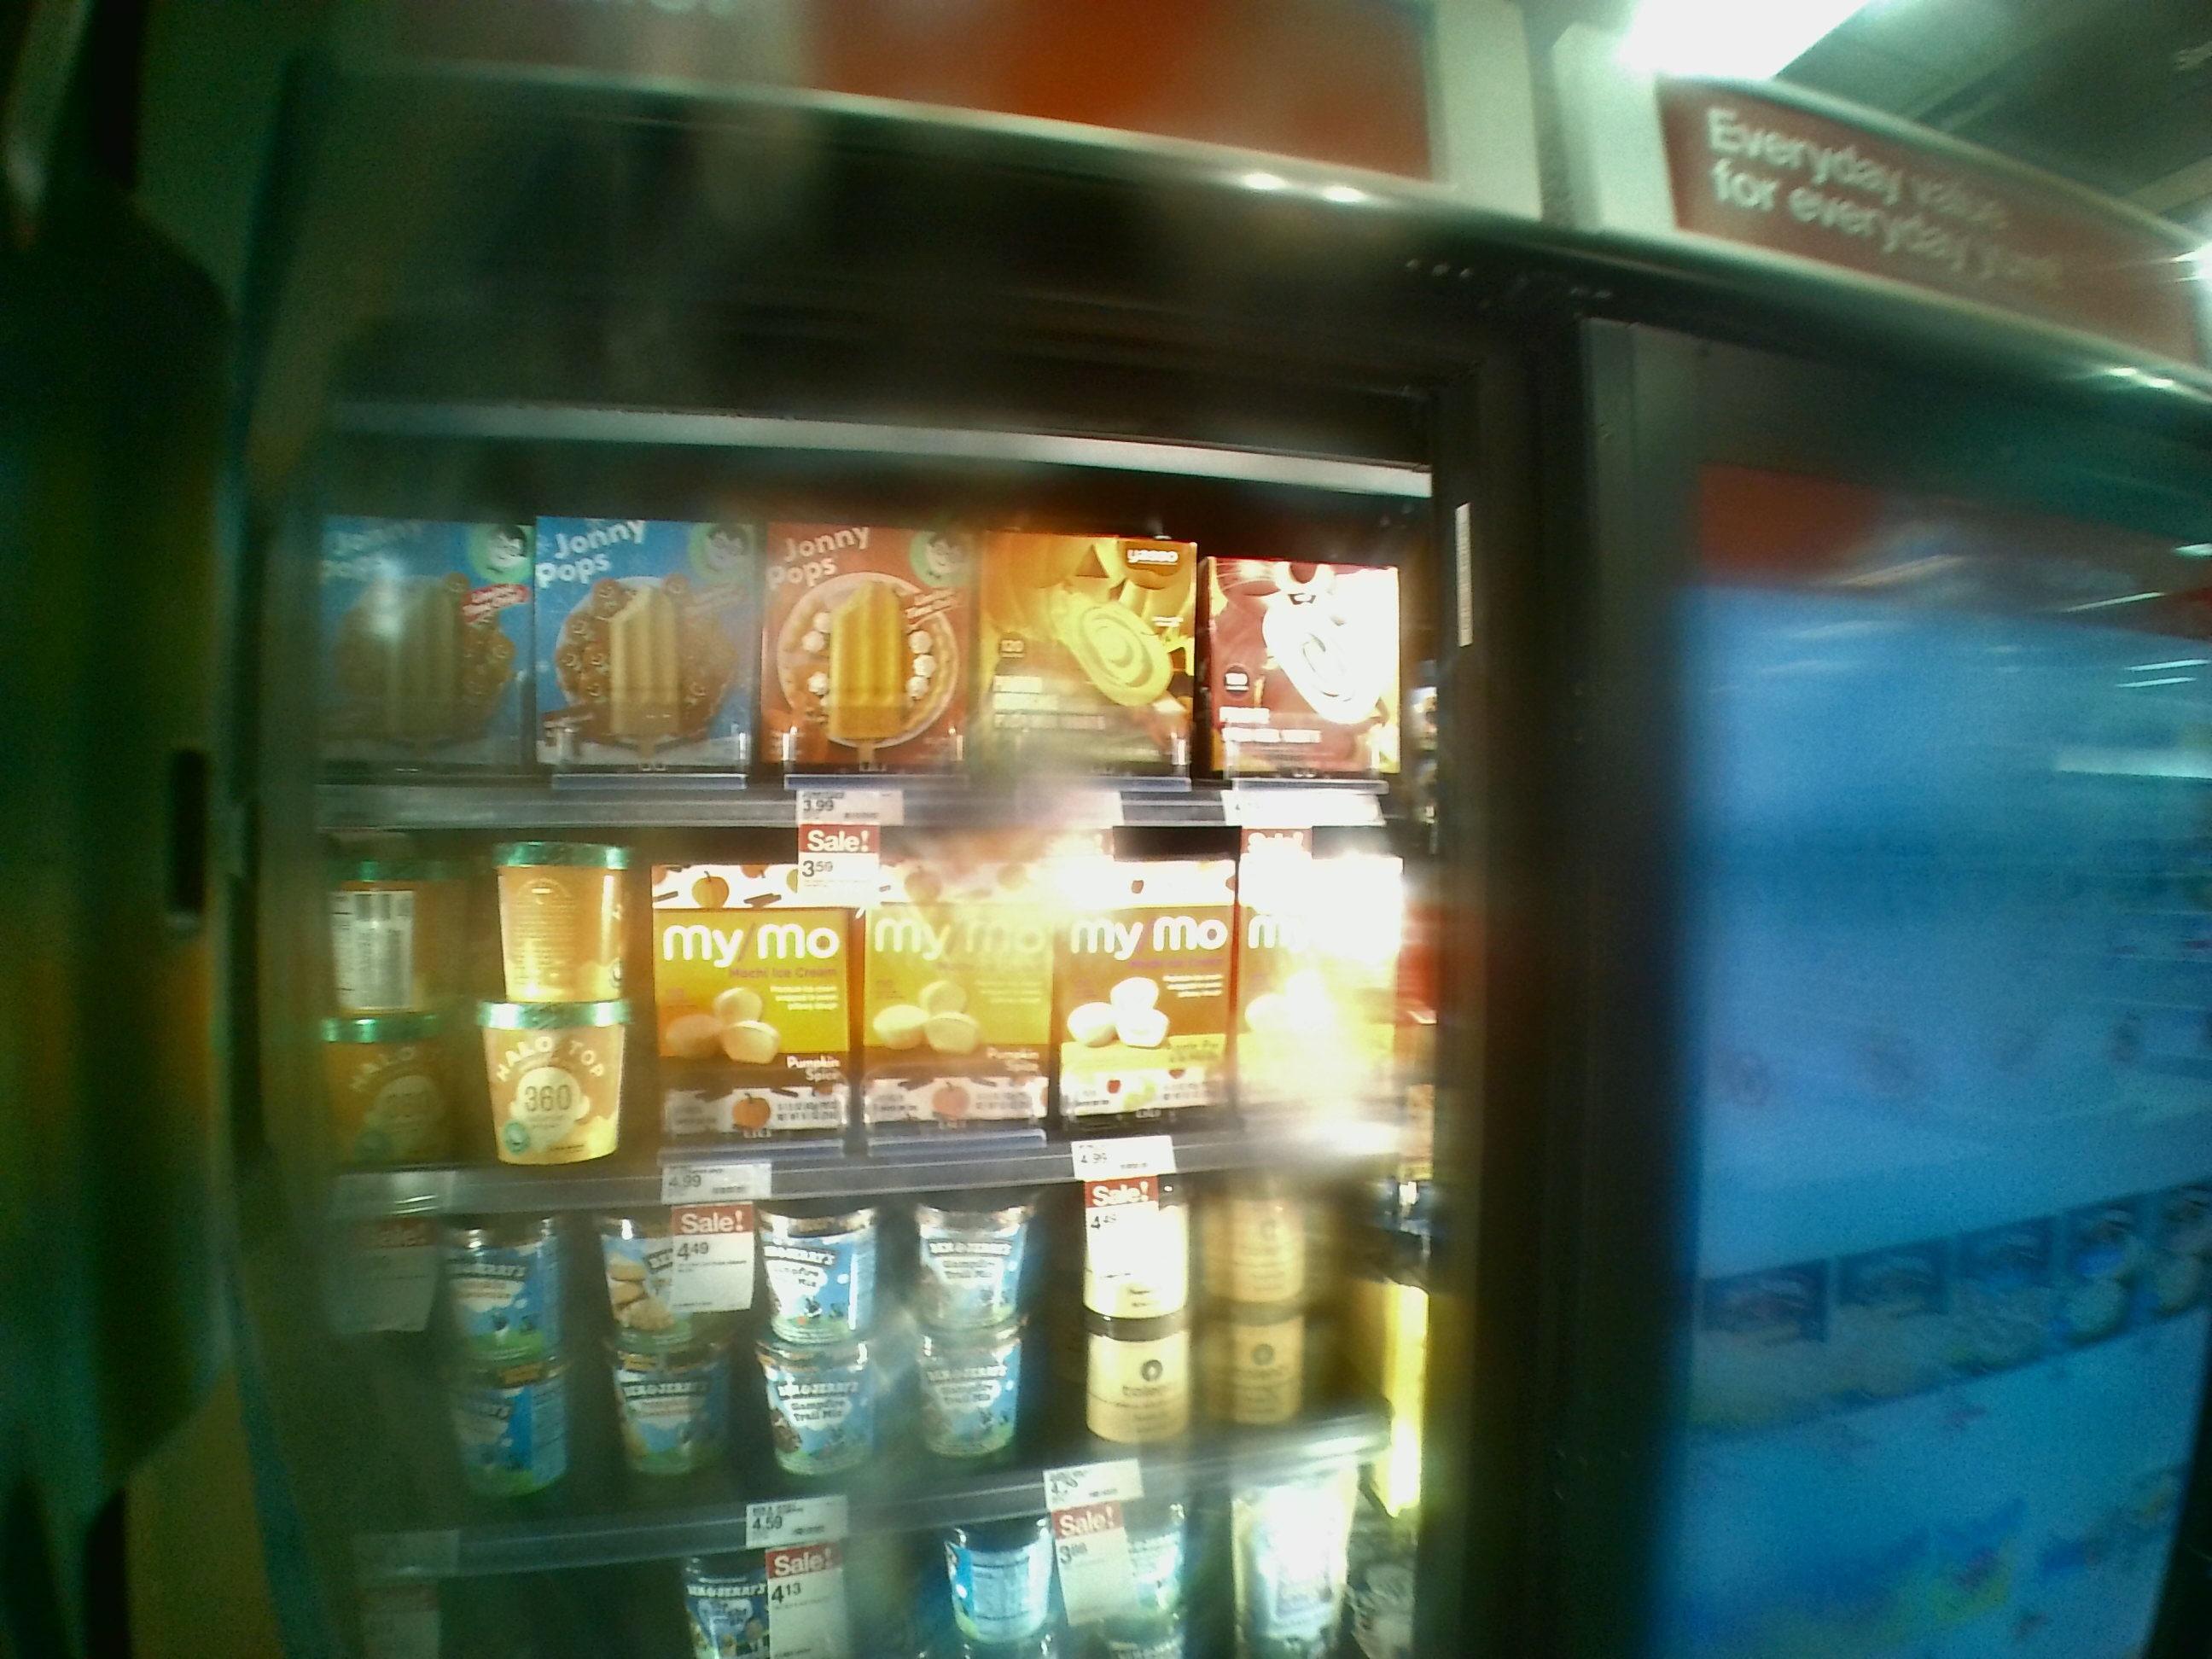shelf: (289, 437, 1428, 840), (268, 1192, 1451, 1567), (268, 823, 1433, 1197)
